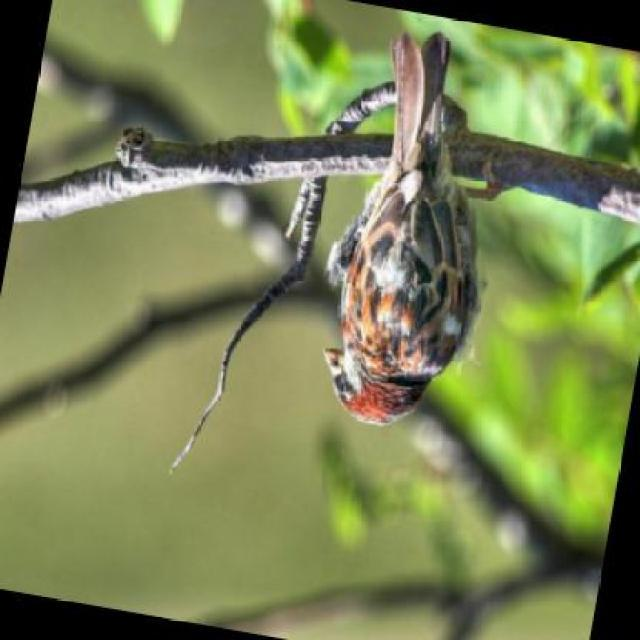Bird: (327, 30, 489, 419)
